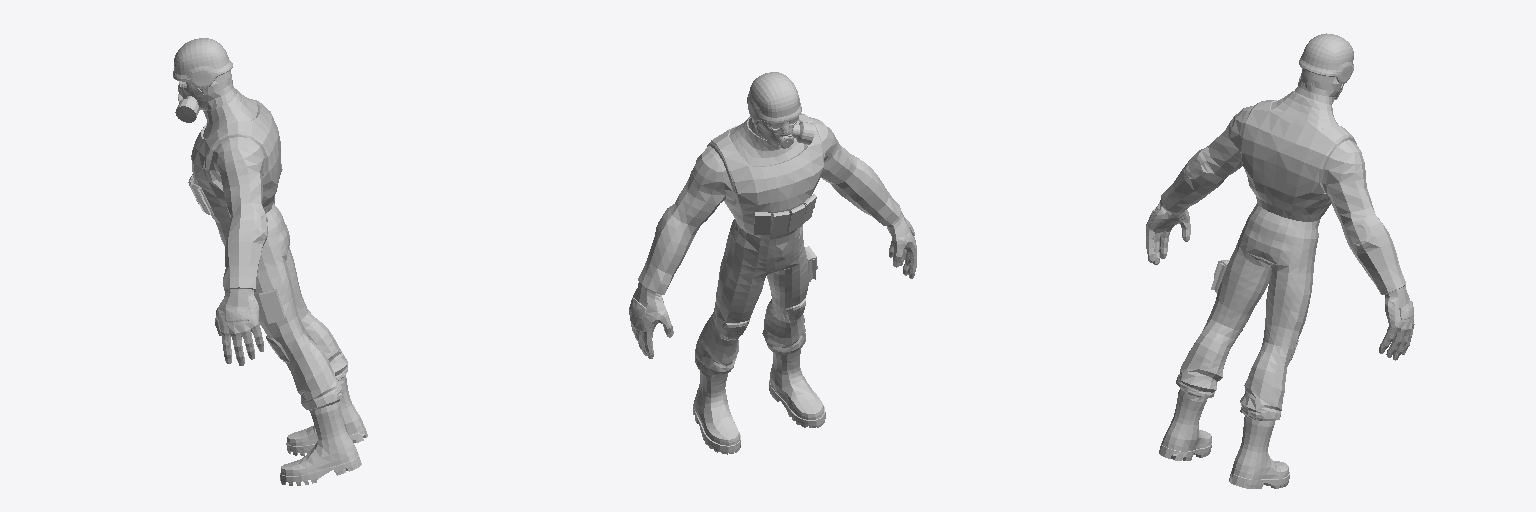
The model's file is CoolAssSoldier.obj.
3 views of the same model, side by side, from view 1: azimuth 30°, elevation 25°; view 2: azimuth 150°, elevation 25°; view 3: azimuth 270°, elevation 25° (orthographic).
Visible parts, largest first — view 1: Char_Cube.031; view 2: Char_Cube.031; view 3: Char_Cube.031.
Boxes of the visible parts, x1,y1,x2,y2 form: Char_Cube.031: [173, 38, 367, 485]; Char_Cube.031: [629, 72, 916, 454]; Char_Cube.031: [1146, 33, 1414, 488].
Size of the model in its own units: 0.0617 by 0.132 by 0.0784.